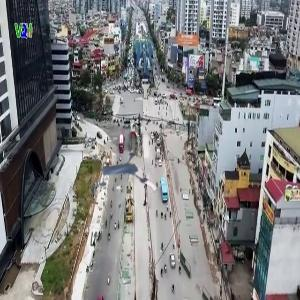drone: (91, 144, 154, 207)
